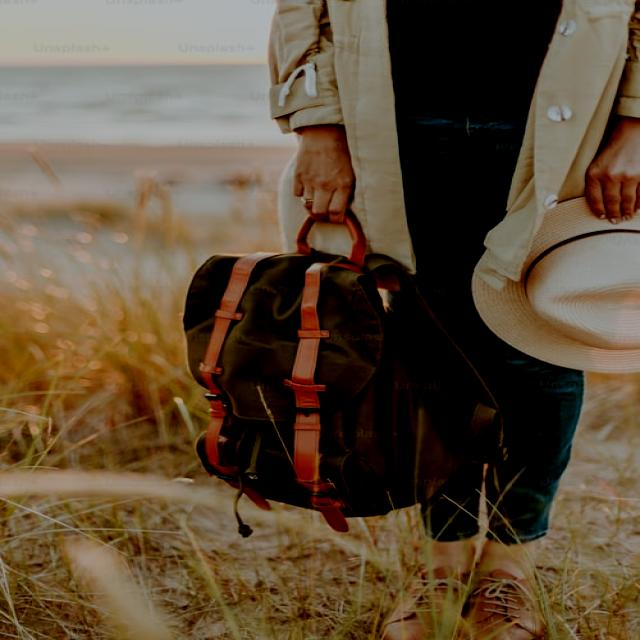backpack: (182, 204, 507, 526)
